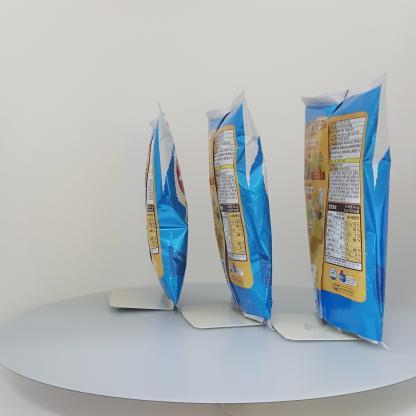Plastic Packaging: (300, 87, 400, 351), (207, 94, 270, 322), (130, 109, 192, 313)
